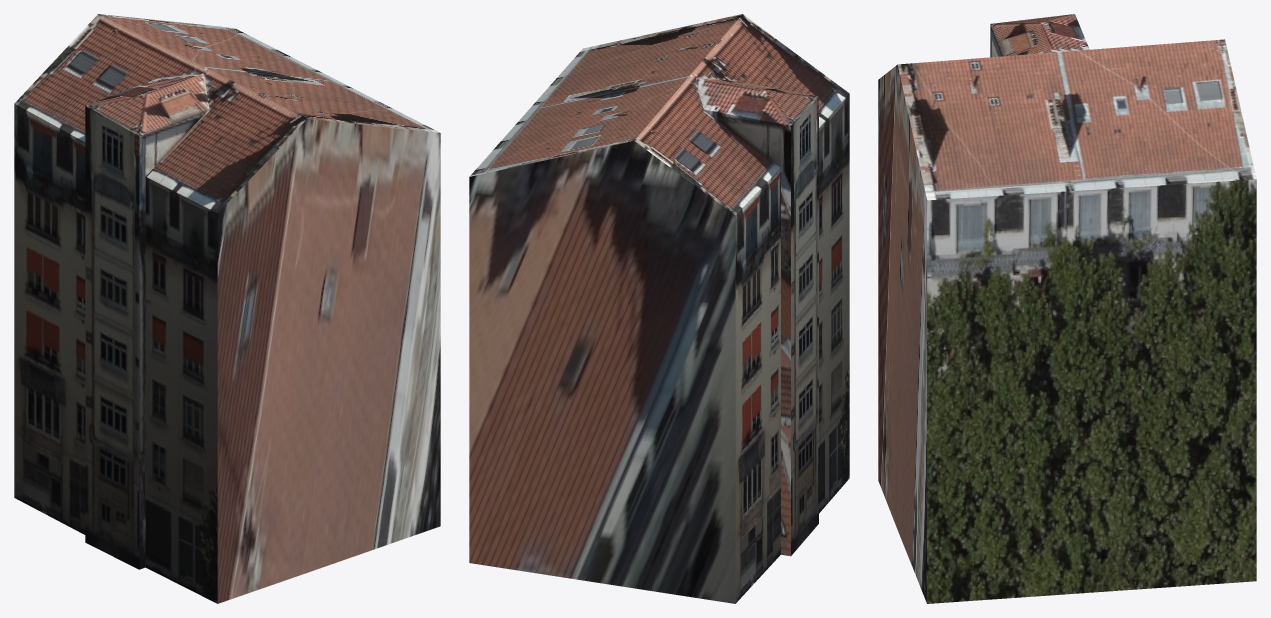
The picture shows the model from 3 angles, left to right: view 1: azimuth 30°, elevation 25°; view 2: azimuth 150°, elevation 25°; view 3: azimuth 270°, elevation 25°; orthographic projection. The views are drawn at different scales.
Visible parts, largest first — view 1: Z_UP; view 2: Z_UP; view 3: Z_UP.
Boxes of the visible parts, bbox=[...] form: Z_UP: bbox=[14, 14, 440, 603]; Z_UP: bbox=[469, 14, 849, 603]; Z_UP: bbox=[878, 14, 1256, 603].
Size of the model in its own units: 18.66 by 27.88 by 20.53.
2 materials, 1 textured.
